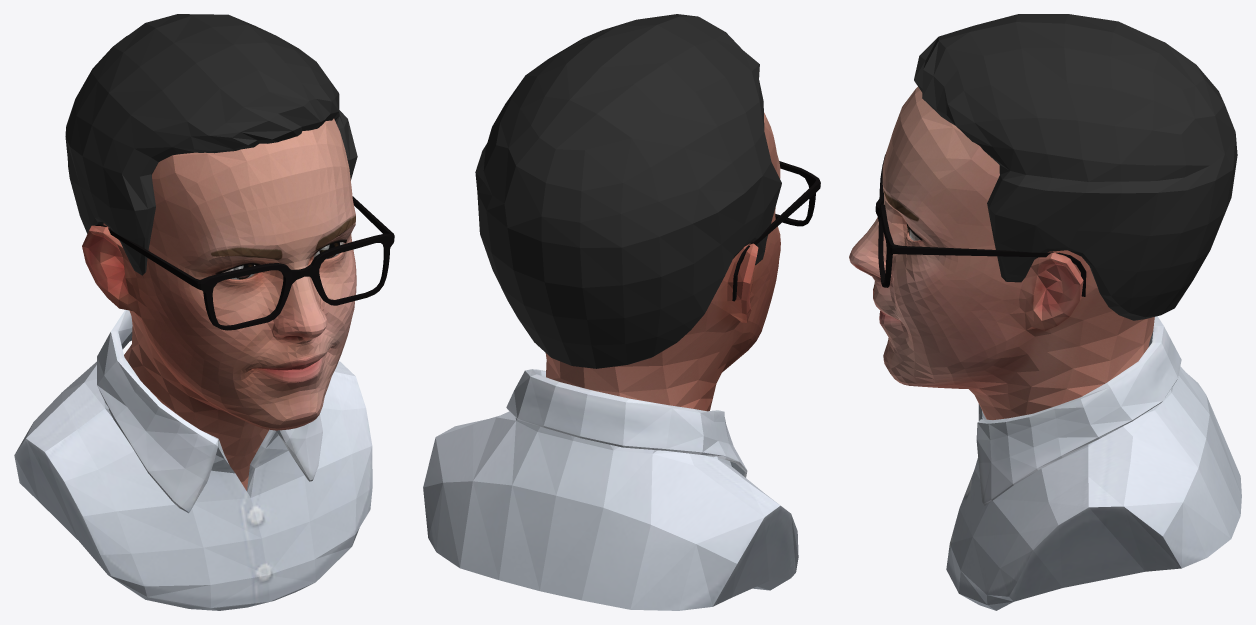
File: pablo.03aac676.glb
The picture shows the model from 3 angles, left to right: view 1: azimuth 30°, elevation 25°; view 2: azimuth 150°, elevation 25°; view 3: azimuth 270°, elevation 25°; orthographic projection. The views are drawn at different scales.
Size of the model in its own units: 0.2312 by 0.3807 by 0.2438.
6 materials, 3 textured.
